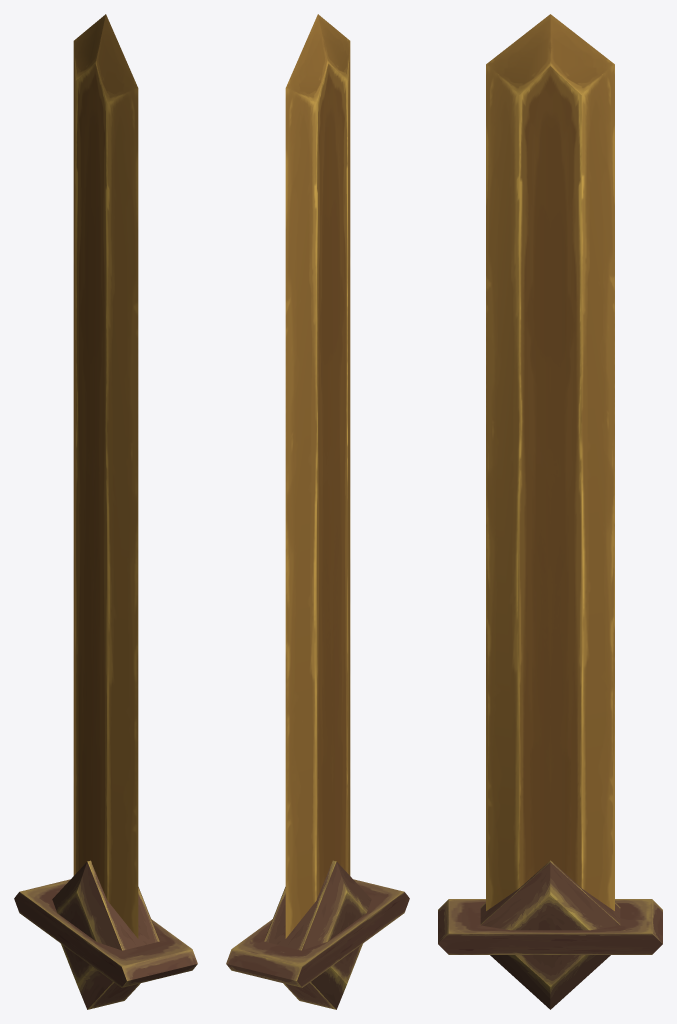
The model's file is SM_WEP_head_sword_battle_16.fbx.
The picture shows the model from 3 angles, left to right: view 1: azimuth 30°, elevation 25°; view 2: azimuth 150°, elevation 25°; view 3: azimuth 270°, elevation 25°; orthographic projection.
Parts seen in each view (by area): view 1: SM_WEP_head_sword_battle_16; view 2: SM_WEP_head_sword_battle_16; view 3: SM_WEP_head_sword_battle_16.
Boxes of the visible parts, <box> form: SM_WEP_head_sword_battle_16: <box>14,14,197,1009</box>; SM_WEP_head_sword_battle_16: <box>226,14,409,1009</box>; SM_WEP_head_sword_battle_16: <box>438,14,662,1009</box>.
Bounding box in the file's own units: 8.15 × 109 × 22.45.
